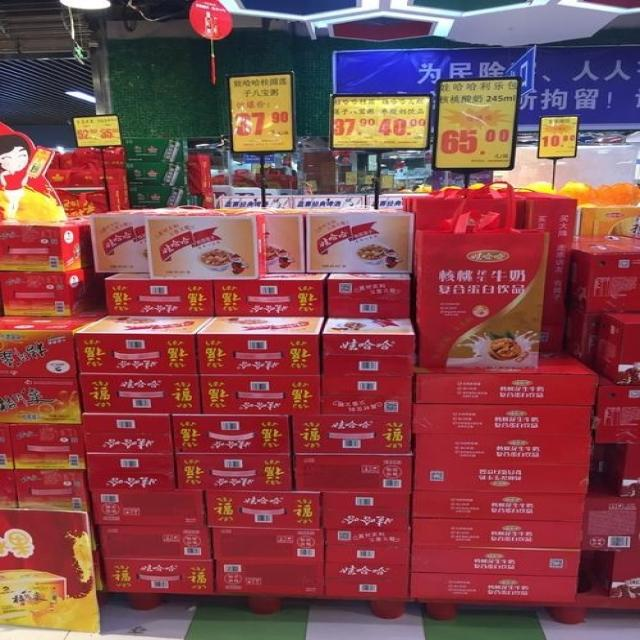box: (415, 227, 549, 369), (415, 352, 596, 404), (145, 209, 268, 280), (0, 297, 106, 378), (74, 314, 214, 373), (516, 192, 579, 323), (195, 316, 325, 375), (307, 211, 415, 273), (413, 434, 591, 466), (415, 404, 591, 436), (568, 236, 640, 313), (0, 267, 113, 316), (413, 463, 590, 494), (412, 517, 582, 548), (323, 318, 413, 376), (412, 490, 586, 520), (0, 217, 93, 272), (79, 373, 201, 414), (324, 490, 410, 548), (411, 573, 577, 603), (214, 273, 329, 315), (412, 547, 580, 575), (201, 375, 321, 414), (204, 490, 321, 530), (105, 273, 214, 315), (292, 415, 412, 453), (582, 474, 640, 552), (174, 415, 291, 453), (325, 545, 410, 597), (90, 210, 160, 273), (177, 453, 292, 490), (91, 489, 205, 526), (294, 455, 413, 490), (102, 558, 214, 594), (210, 528, 325, 562), (412, 195, 525, 229), (326, 273, 411, 318), (0, 378, 83, 423), (215, 561, 325, 594), (323, 375, 413, 415), (100, 526, 211, 558), (86, 414, 174, 454), (12, 424, 86, 470), (87, 452, 177, 489), (593, 313, 640, 382), (15, 470, 90, 512), (595, 374, 640, 443), (266, 211, 307, 272), (564, 305, 602, 366), (594, 550, 640, 597), (602, 444, 640, 496), (579, 207, 640, 238), (124, 137, 189, 161), (55, 188, 106, 217), (125, 162, 188, 185), (127, 185, 189, 207), (293, 195, 365, 208), (366, 193, 428, 207), (220, 196, 292, 208), (0, 469, 17, 510), (303, 153, 334, 174), (540, 324, 563, 352), (306, 174, 337, 194), (0, 423, 13, 469), (108, 184, 129, 210), (189, 174, 212, 194), (45, 169, 70, 187), (189, 154, 210, 175), (105, 169, 125, 183), (104, 154, 124, 168), (47, 154, 61, 168), (59, 154, 72, 169)
